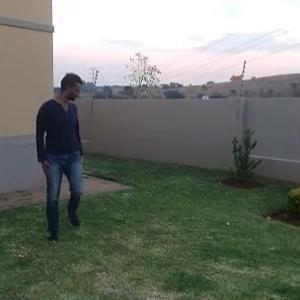follow: (31, 69, 89, 242)
